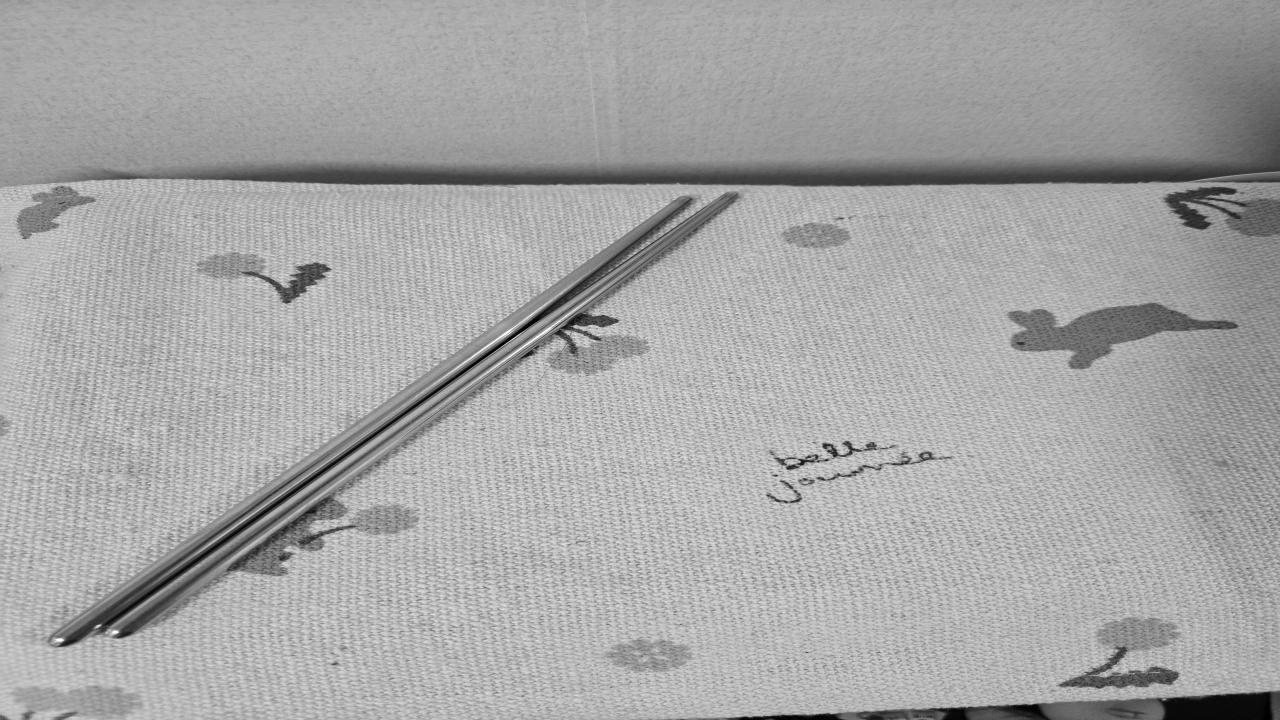chopstick: (49, 194, 742, 646)
